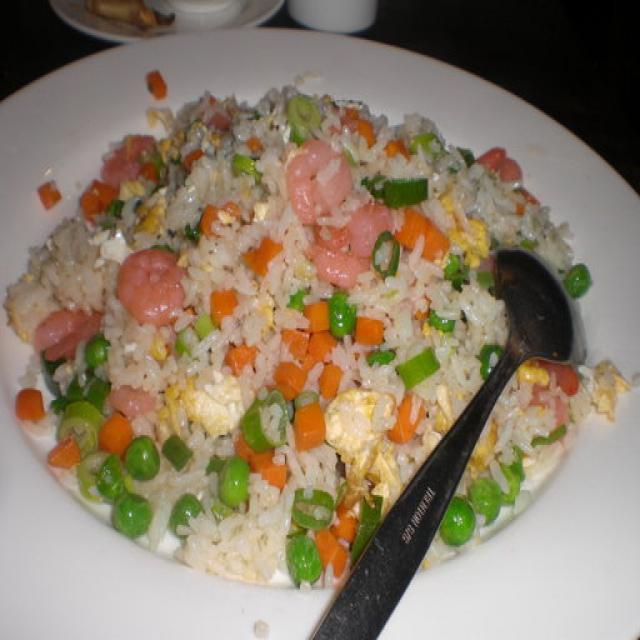Rice: (0, 69, 632, 588)
